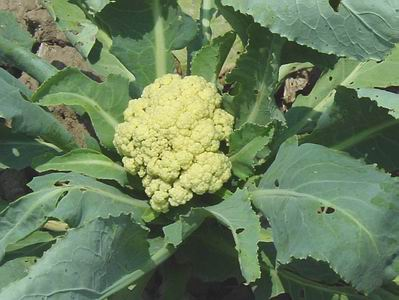cauliflower: (114, 73, 235, 214)
